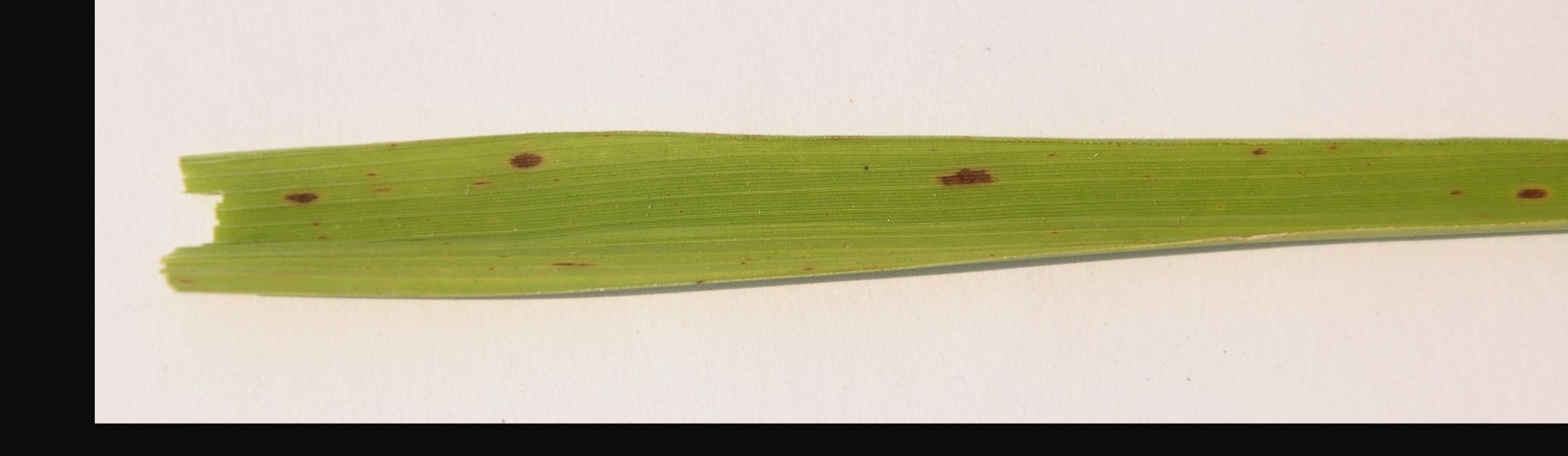Bacterial_Leaf_Blight: (909, 150, 1035, 193), (492, 144, 567, 171), (1507, 171, 1553, 207), (279, 186, 327, 213)
